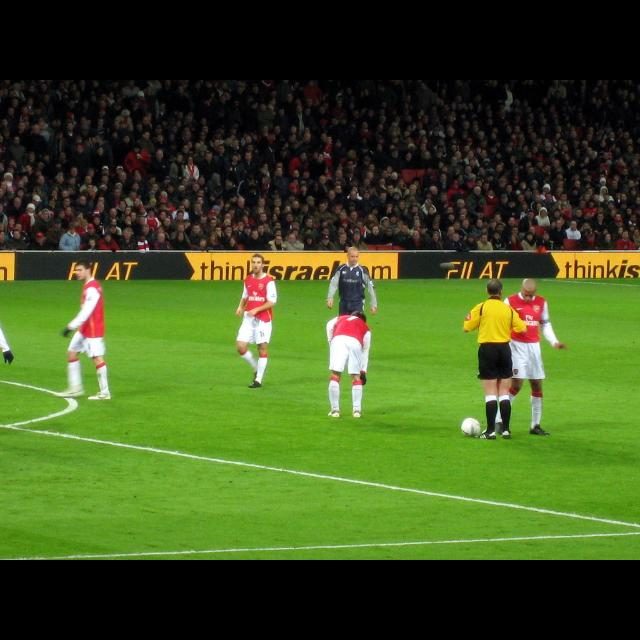Football: (462, 417, 480, 438)
